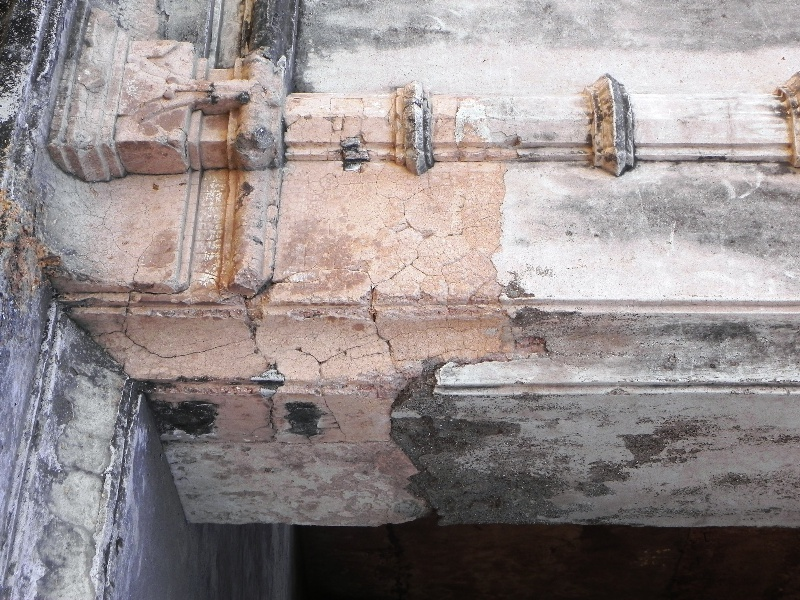Crack: (112, 331, 241, 355)
